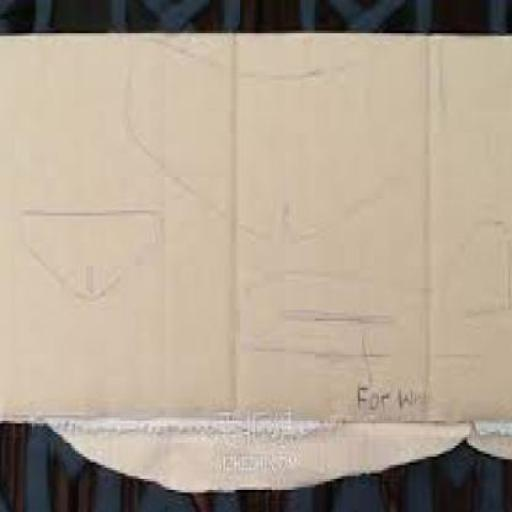cardboard: (0, 27, 511, 487)
